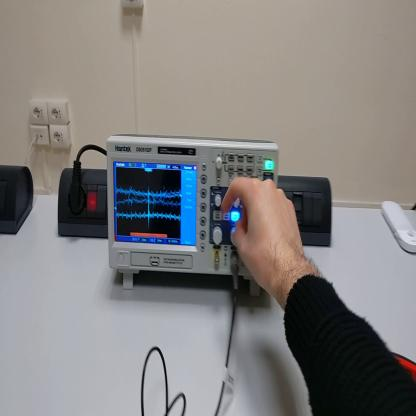hand: (223, 176, 305, 293)
oscilloscope: (108, 134, 282, 299)
pliers: (393, 350, 416, 379)
socket: (57, 164, 109, 240), (1, 162, 36, 236)
